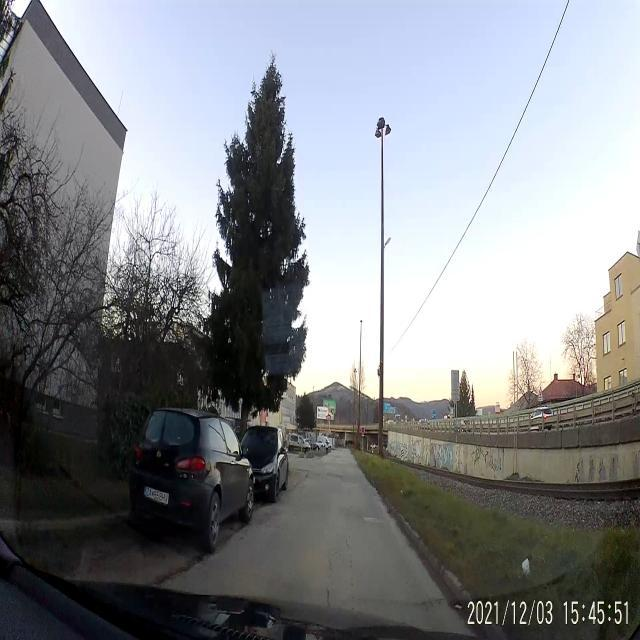Manhole: (364, 516, 379, 524)
Pothole: (451, 599, 464, 615)
